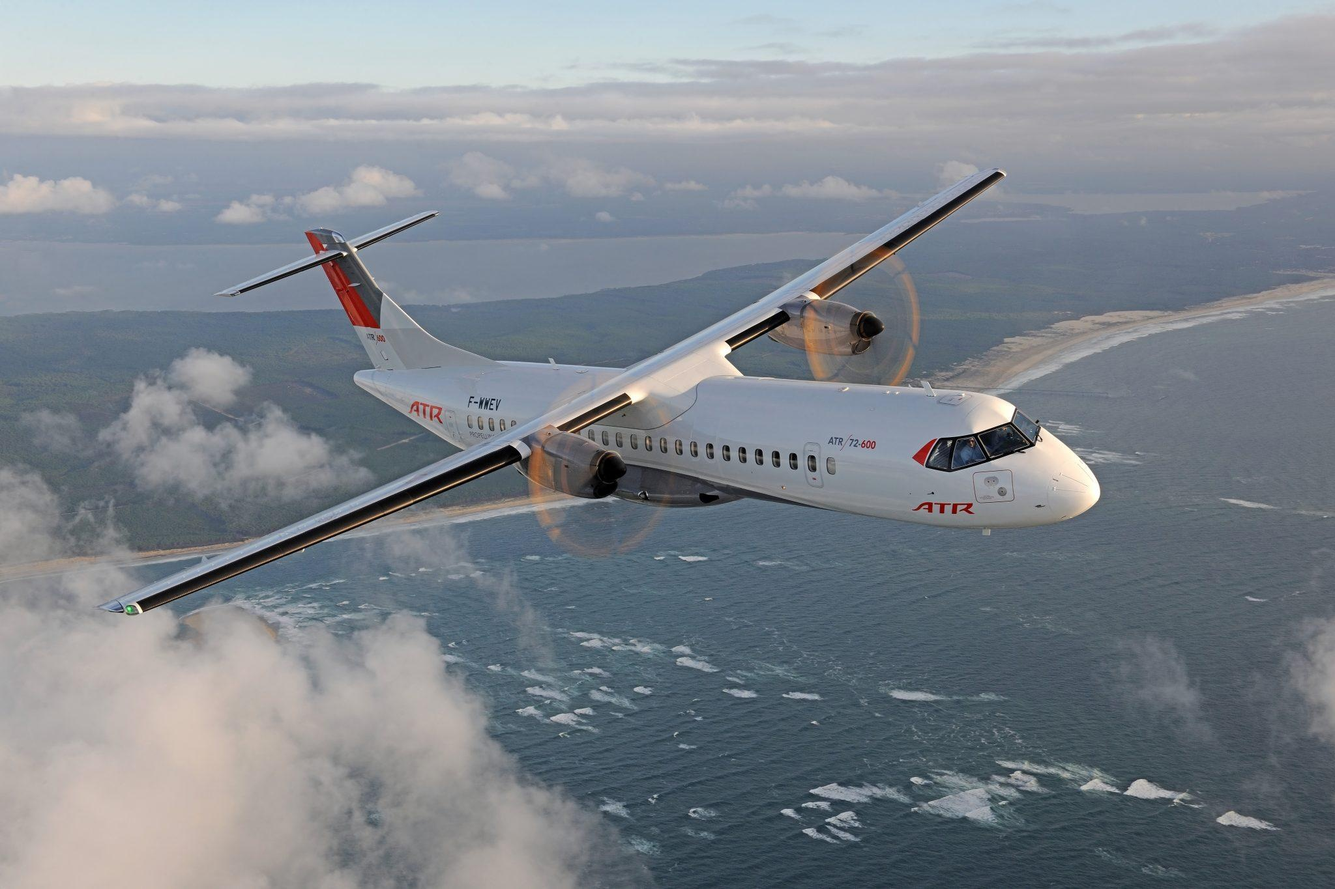aircraft: (104, 165, 1101, 626)
